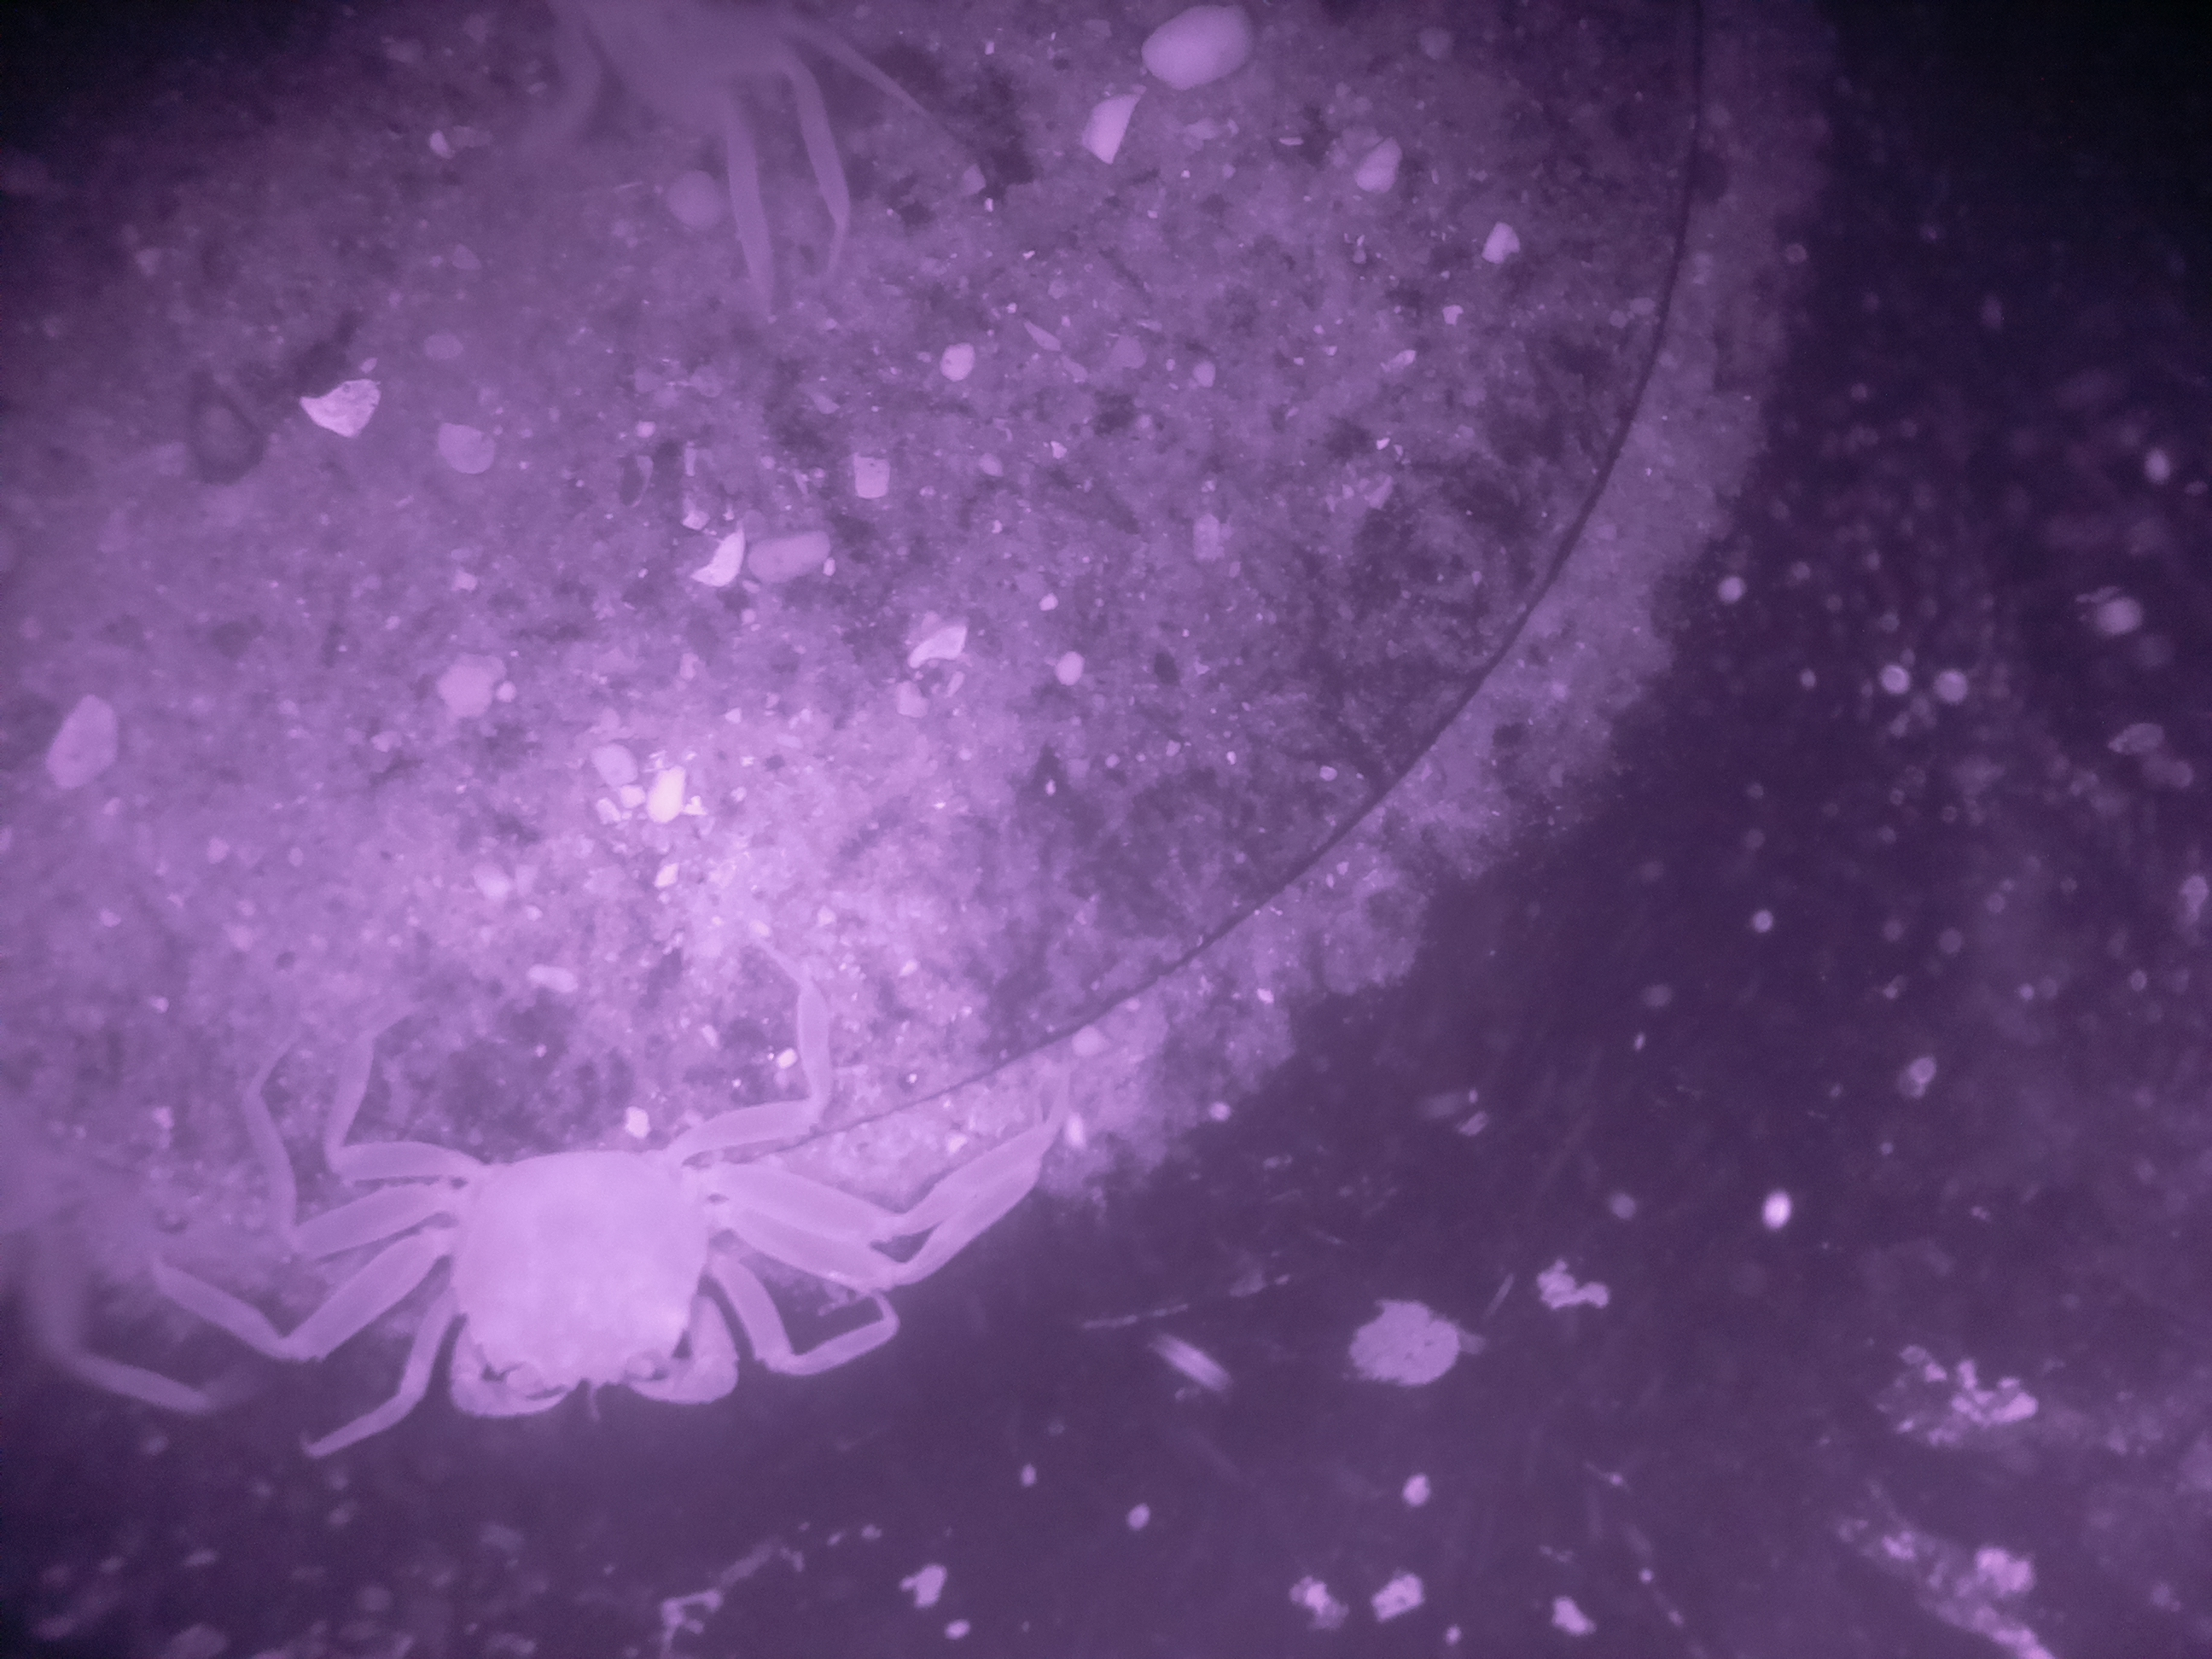Crab: (307, 1077, 838, 1483)
